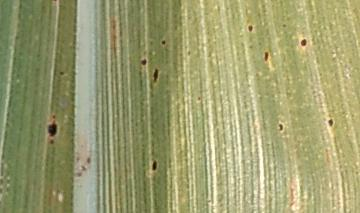tarspot: (45, 120, 61, 138), (150, 65, 161, 83), (150, 157, 159, 175), (261, 49, 272, 63), (245, 21, 256, 34), (137, 56, 150, 67), (325, 116, 336, 129), (276, 121, 286, 134), (298, 37, 309, 48), (158, 38, 168, 48), (47, 137, 56, 147), (57, 69, 66, 78), (48, 112, 58, 119)
